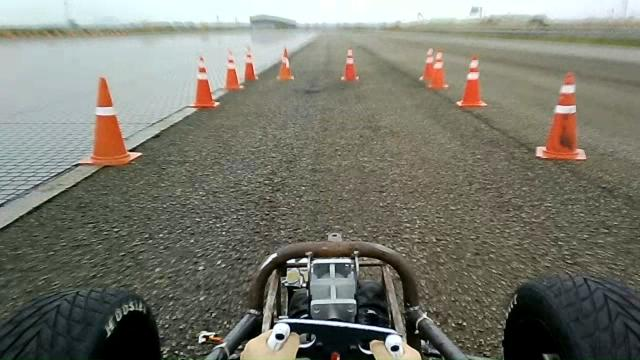red cone: (76, 76, 142, 166), (535, 71, 587, 160), (187, 55, 220, 108), (456, 54, 488, 108), (221, 47, 244, 92), (427, 48, 449, 89), (340, 47, 360, 82), (242, 45, 259, 83), (276, 47, 295, 81), (418, 46, 435, 82)
